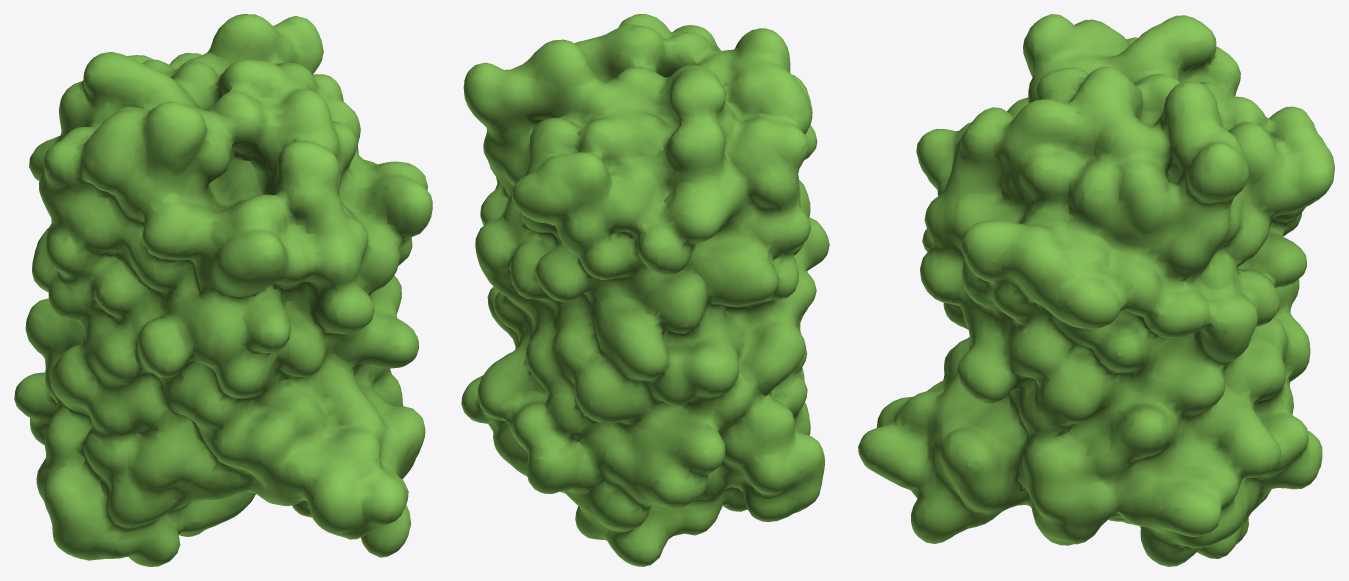
Rendered from 1EMA.glb.
3 renders of one model, left to right at view 1: azimuth 30°, elevation 25°; view 2: azimuth 150°, elevation 25°; view 3: azimuth 270°, elevation 25°, orthographic. The views are drawn at different scales.
Parts seen in each view (by area): view 1: 1EMA_protein; view 2: 1EMA_protein; view 3: 1EMA_protein.
Part boxes in pixels (x1,y1,x2,y2): 1EMA_protein: (14,14,432,566); 1EMA_protein: (461,14,829,566); 1EMA_protein: (858,14,1334,566).
Bounding box in the file's own units: 3.93 × 5.41 × 4.57.
